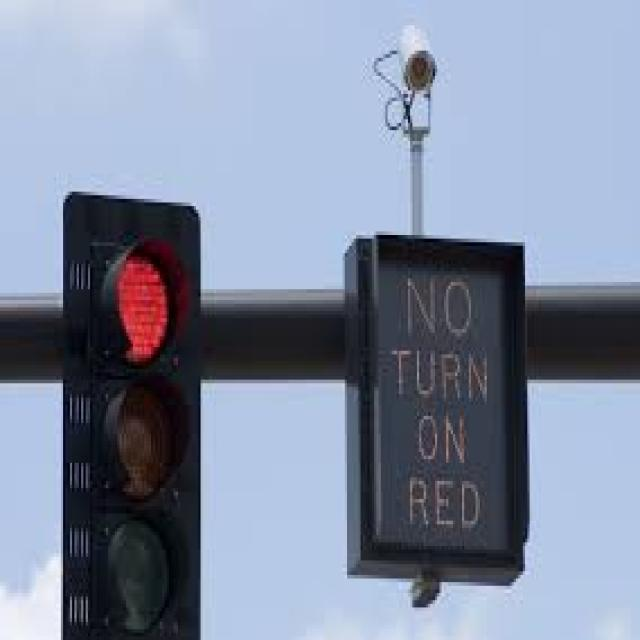red: (68, 196, 197, 636)
